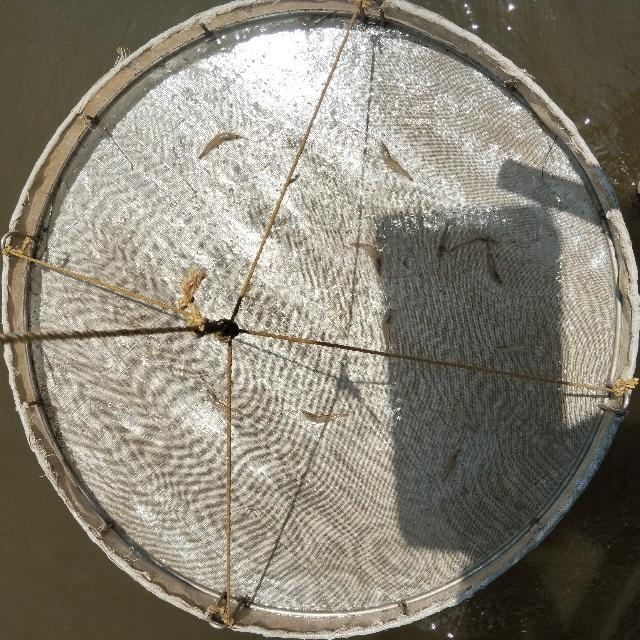shrimp: (381, 140, 414, 181), (198, 133, 242, 159), (206, 387, 243, 415), (351, 243, 381, 275), (455, 400, 481, 434), (450, 233, 498, 251), (487, 244, 503, 287), (300, 409, 348, 423), (443, 448, 462, 481), (438, 218, 453, 259), (382, 306, 394, 355), (494, 345, 532, 352)
